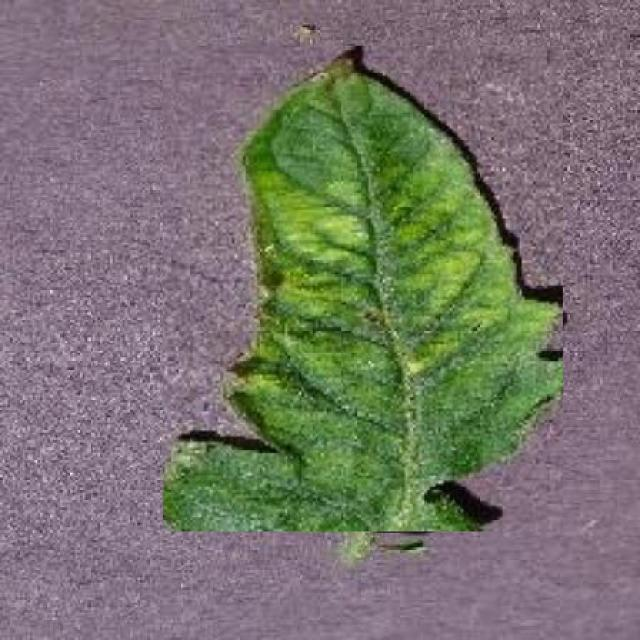Mosaic Virus: (163, 47, 563, 532)
